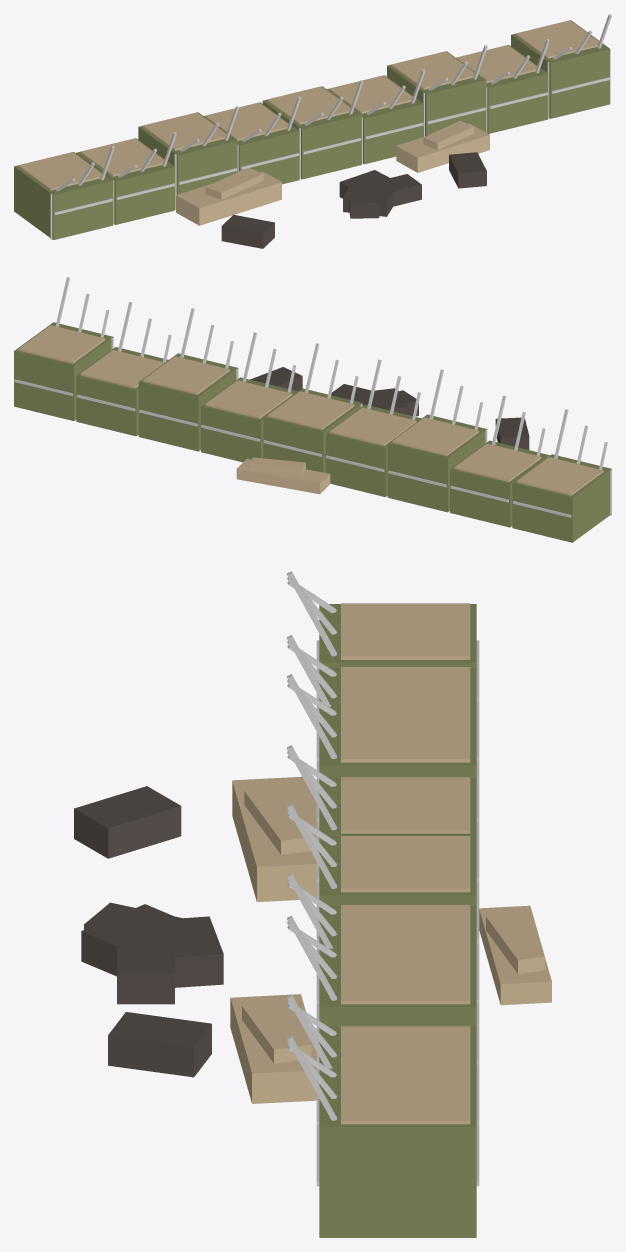
The model's file is SM_MuroHesco_v0_MallaLimpia_e2_MuyDanado_LOD0.fbx.
The picture shows the model from 3 angles, top to bottom: view 1: azimuth 30°, elevation 25°; view 2: azimuth 150°, elevation 25°; view 3: azimuth 270°, elevation 25°; orthographic projection. The views are drawn at different scales.
Visible parts, largest first — view 1: SM_bloques.muro_hesco_estados_v2_LOD0; view 2: SM_bloques.muro_hesco_estados_v2_LOD0; view 3: SM_bloques.muro_hesco_estados_v2_LOD0.
Part boxes in pixels (left/top/right/bottom): SM_bloques.muro_hesco_estados_v2_LOD0: left=14, top=14, right=611, bottom=248; SM_bloques.muro_hesco_estados_v2_LOD0: left=14, top=277, right=611, bottom=542; SM_bloques.muro_hesco_estados_v2_LOD0: left=74, top=571, right=551, bottom=1237.
Size of the model in its own units: 9.98 by 1.65 by 3.7.
